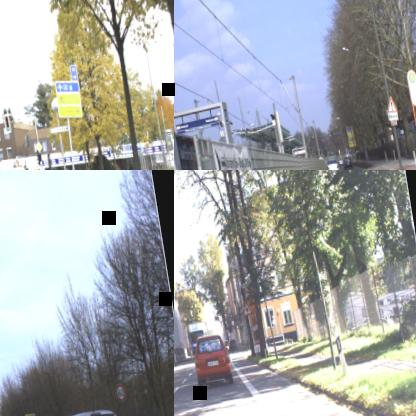DANGER: (384, 94, 398, 113)
priority at next intersection: (240, 300, 252, 317)
priority road: (35, 140, 42, 153)
speed limit 60: (113, 381, 127, 403)
